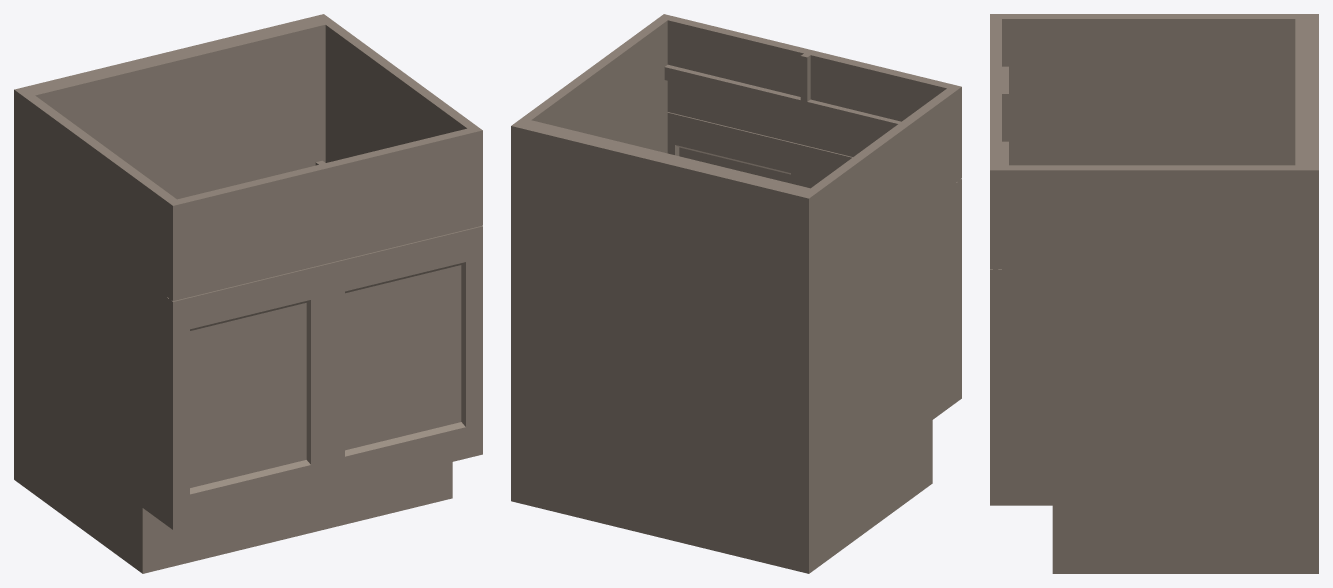
The model's file is Universal-Design-Sink-Base-Cabinet-Double_std_001_W27in.glb.
The picture shows the model from 3 angles, left to right: view 1: azimuth 30°, elevation 25°; view 2: azimuth 150°, elevation 25°; view 3: azimuth 270°, elevation 25°; orthographic projection. The views are drawn at different scales.
Parts seen in each view (by area): view 1: Universal-Design-Sink-Base-Cabinet-Double.std.001_W27in; view 2: Universal-Design-Sink-Base-Cabinet-Double.std.001_W27in; view 3: Universal-Design-Sink-Base-Cabinet-Double.std.001_W27in.
Part boxes in pixels (x1,y1,x2,y2): Universal-Design-Sink-Base-Cabinet-Double.std.001_W27in: [14, 14, 482, 573]; Universal-Design-Sink-Base-Cabinet-Double.std.001_W27in: [511, 14, 961, 573]; Universal-Design-Sink-Base-Cabinet-Double.std.001_W27in: [990, 14, 1318, 573].
Size of the model in its own units: 0.6858 by 0.8255 by 0.6096.
